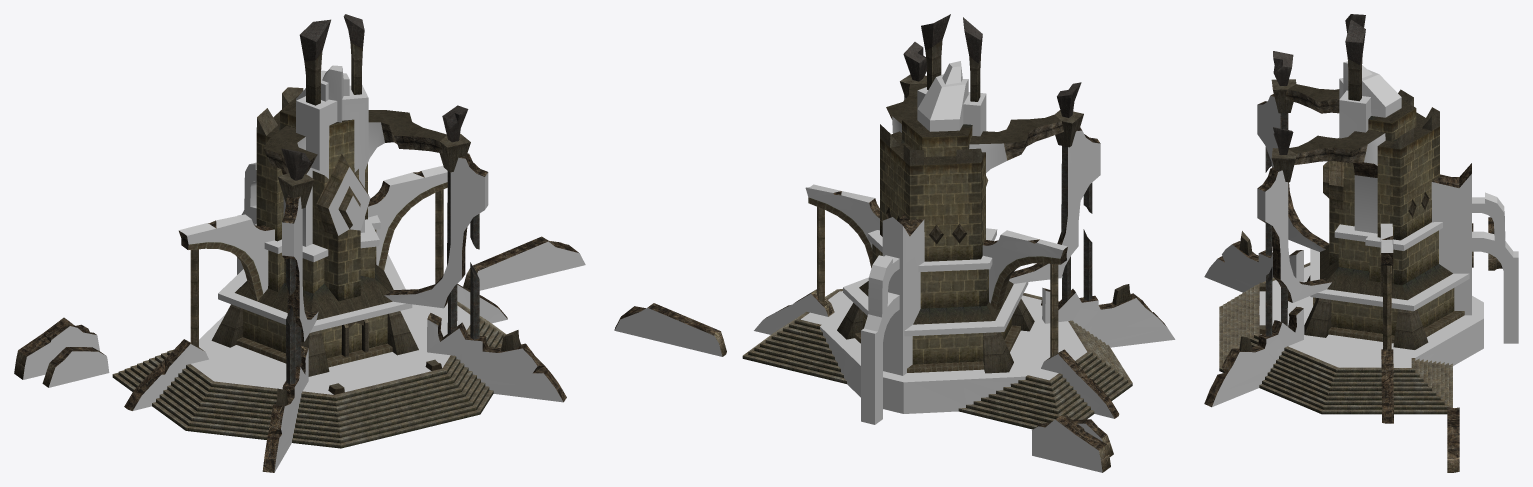
3 views of the same model, side by side, from view 1: azimuth 30°, elevation 25°; view 2: azimuth 150°, elevation 25°; view 3: azimuth 270°, elevation 25° (orthographic). The views are drawn at different scales.
Visible parts, largest first — view 1: Ruins_03_01; view 2: Ruins_03_01; view 3: Ruins_03_01.
Boxes of the visible parts, x1,y1,x2,y2 form: Ruins_03_01: (14,14,585,472); Ruins_03_01: (614,14,1175,472); Ruins_03_01: (1204,14,1518,472).
Bounding box in the file's own units: 4242 × 2379 × 2702.
